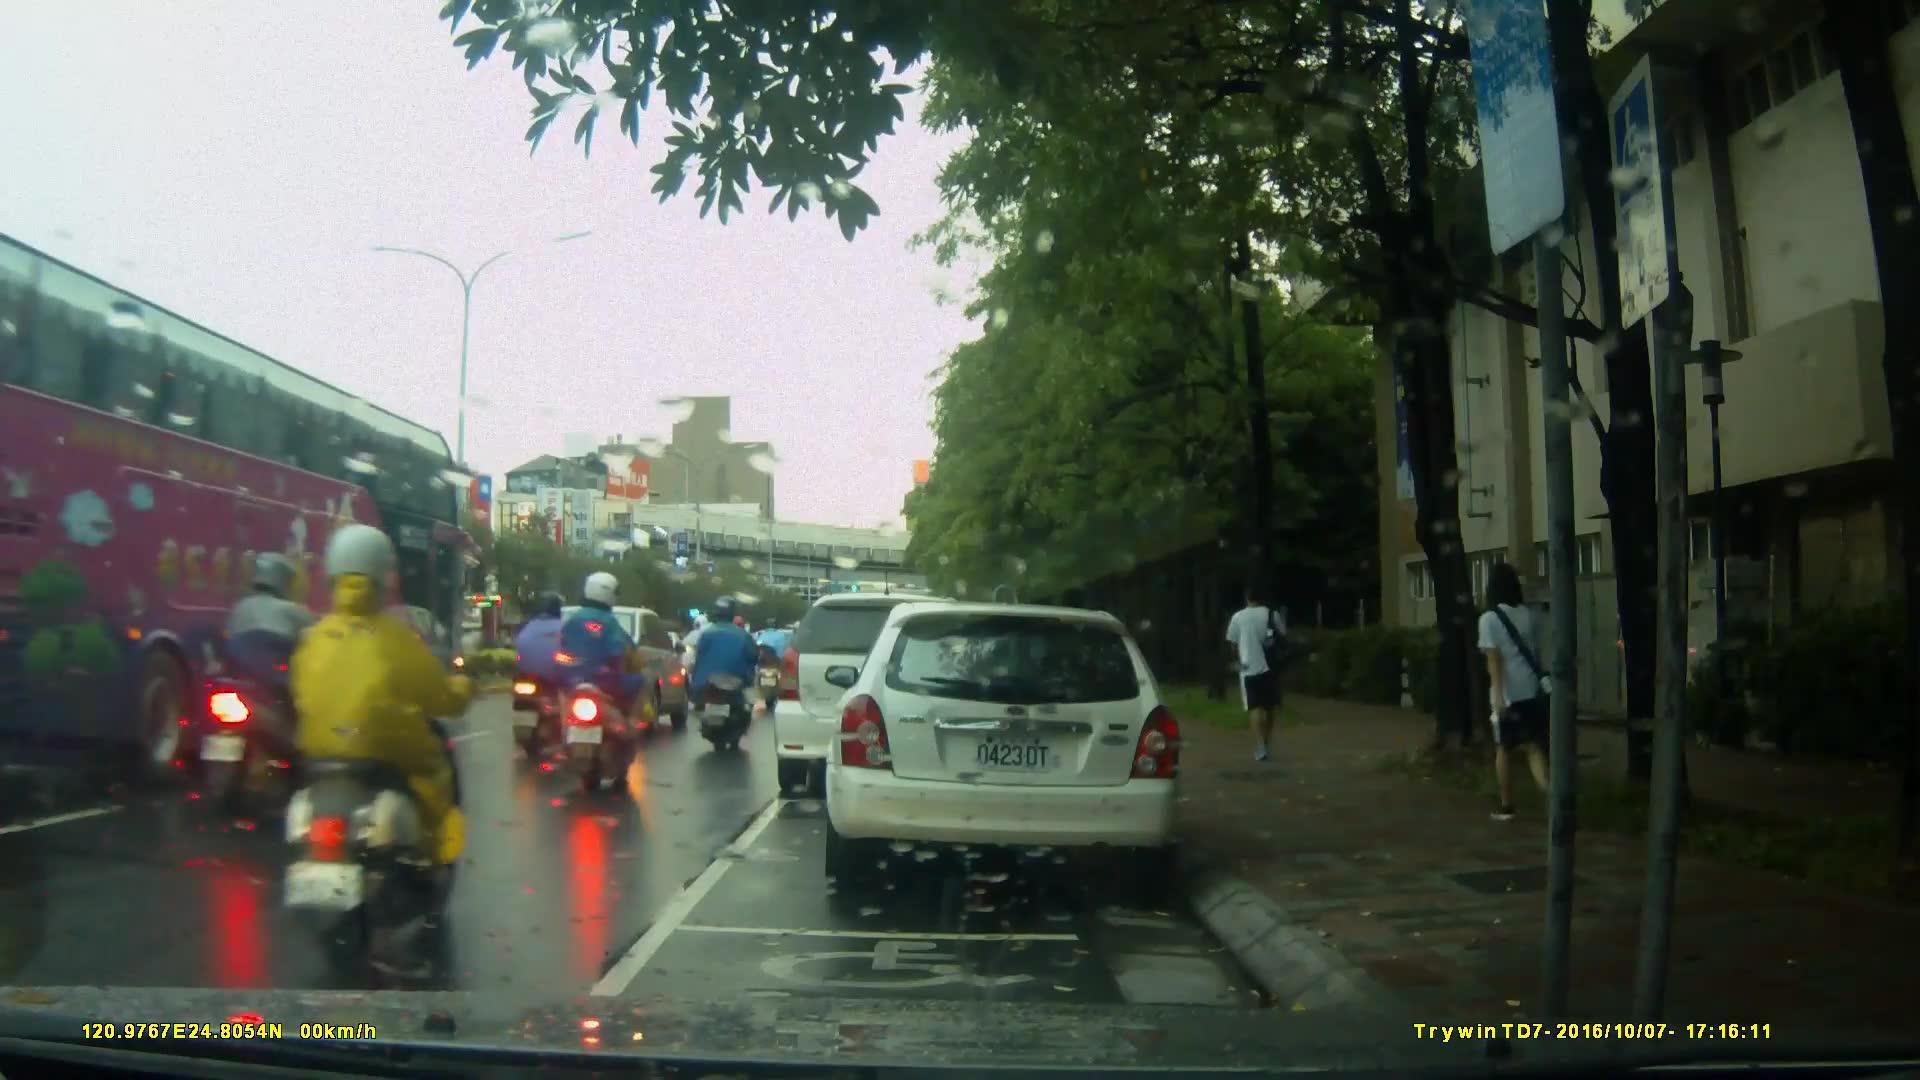pedestrian: (1464, 561, 1562, 839), (1214, 574, 1292, 768)
rider: (283, 515, 472, 969), (193, 551, 335, 833), (546, 569, 648, 808), (515, 590, 596, 767), (692, 598, 755, 759), (715, 611, 766, 716), (753, 614, 790, 695)
vehicle: (1, 254, 490, 785), (835, 594, 1194, 898), (776, 590, 1026, 784), (521, 603, 699, 746)
